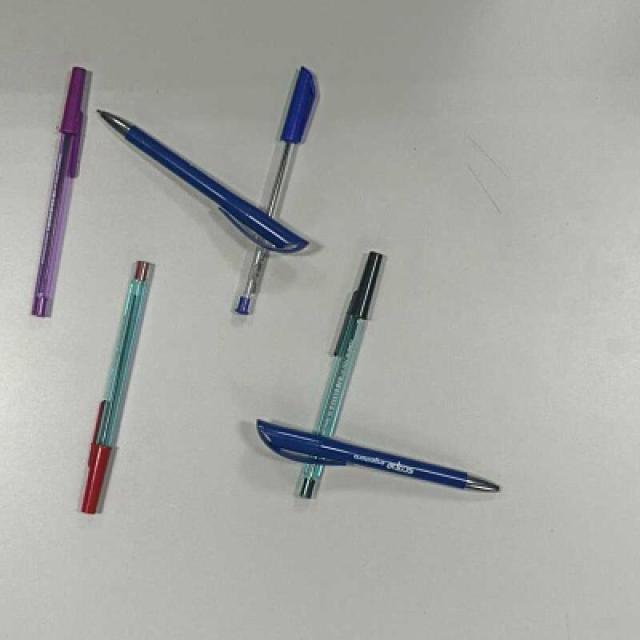caneta: (85, 105, 310, 269), (291, 248, 385, 500), (229, 68, 323, 317), (251, 420, 500, 512), (77, 260, 149, 515), (31, 67, 92, 319)
